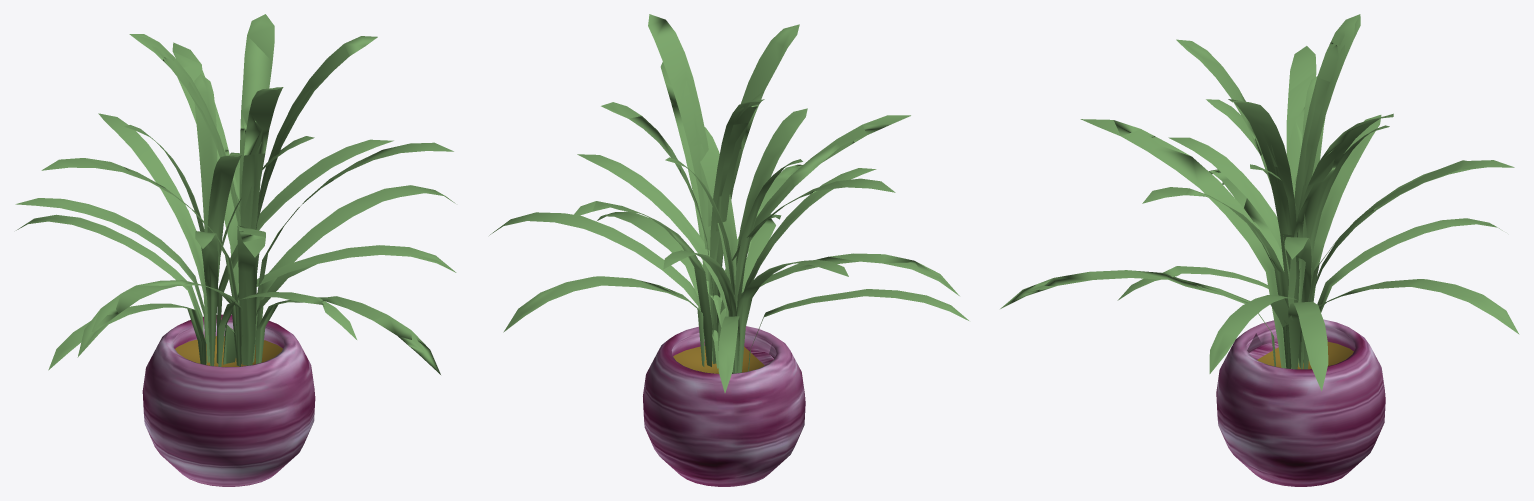
The model's file is potplant2.glb.
3 renders of one model, left to right at view 1: azimuth 30°, elevation 25°; view 2: azimuth 150°, elevation 25°; view 3: azimuth 270°, elevation 25°, orthographic. The views are drawn at different scales.
Visible parts, largest first — view 1: potplant2; view 2: potplant2; view 3: potplant2.
Boxes of the visible parts, left/top/right/bottom form: potplant2: left=15, top=14, right=456, bottom=486; potplant2: left=489, top=14, right=968, bottom=486; potplant2: left=1000, top=14, right=1519, bottom=486.
Bounding box in the file's own units: 0.9668 × 0.8536 × 0.9618.
Materials: 3 (1 with a texture image).
